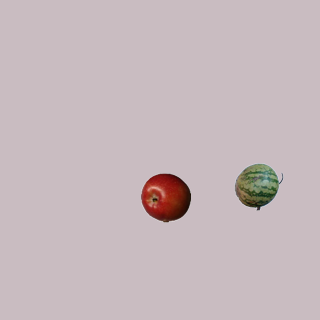Apple Braeburn: (140, 172, 190, 222)
Watermelon: (233, 161, 283, 211)
